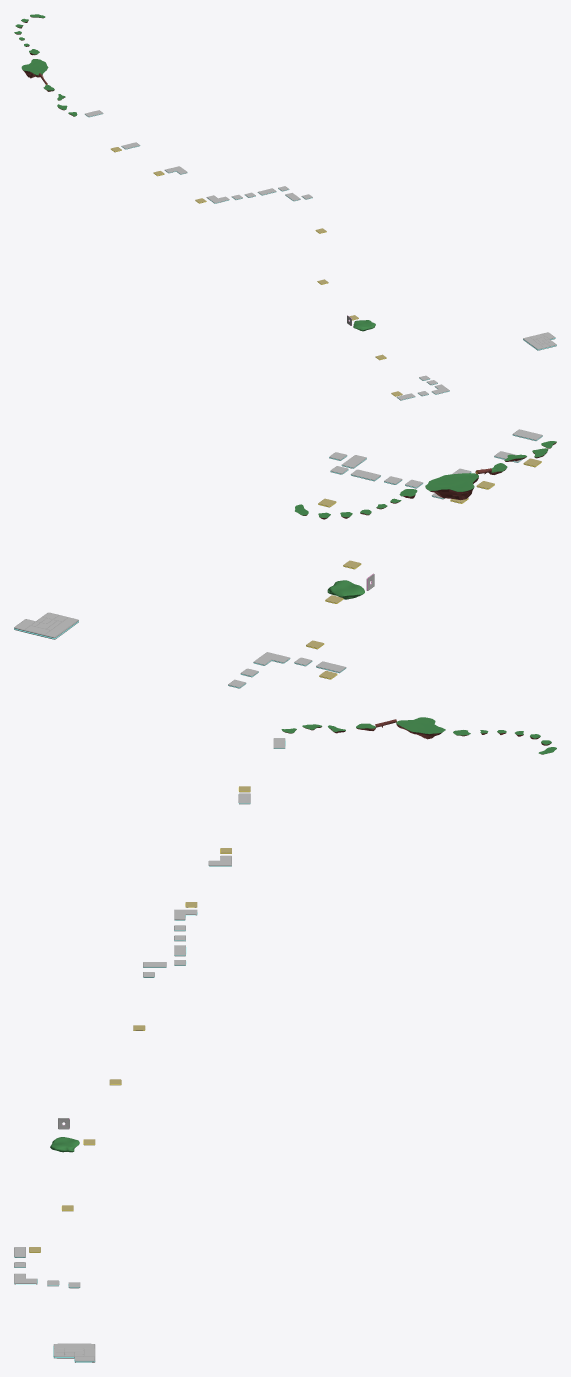
3 views of the same model, one above another, from view 1: azimuth 30°, elevation 25°; view 2: azimuth 150°, elevation 25°; view 3: azimuth 270°, elevation 25° (orthographic). The views are drawn at different scales.
Parts seen in each view (by area): view 1: no part large enough to name; view 2: Var4.005, 3_4Platform, Cube; view 3: no part large enough to name.
Part boxes in pixels (<box>): Var4.005: <box>425,473,478,500</box>; 3_4Platform: <box>14,615,78,639</box>; Cube: <box>327,580,364,599</box>.
Size of the model in its own units: 212 by 142 by 178.
